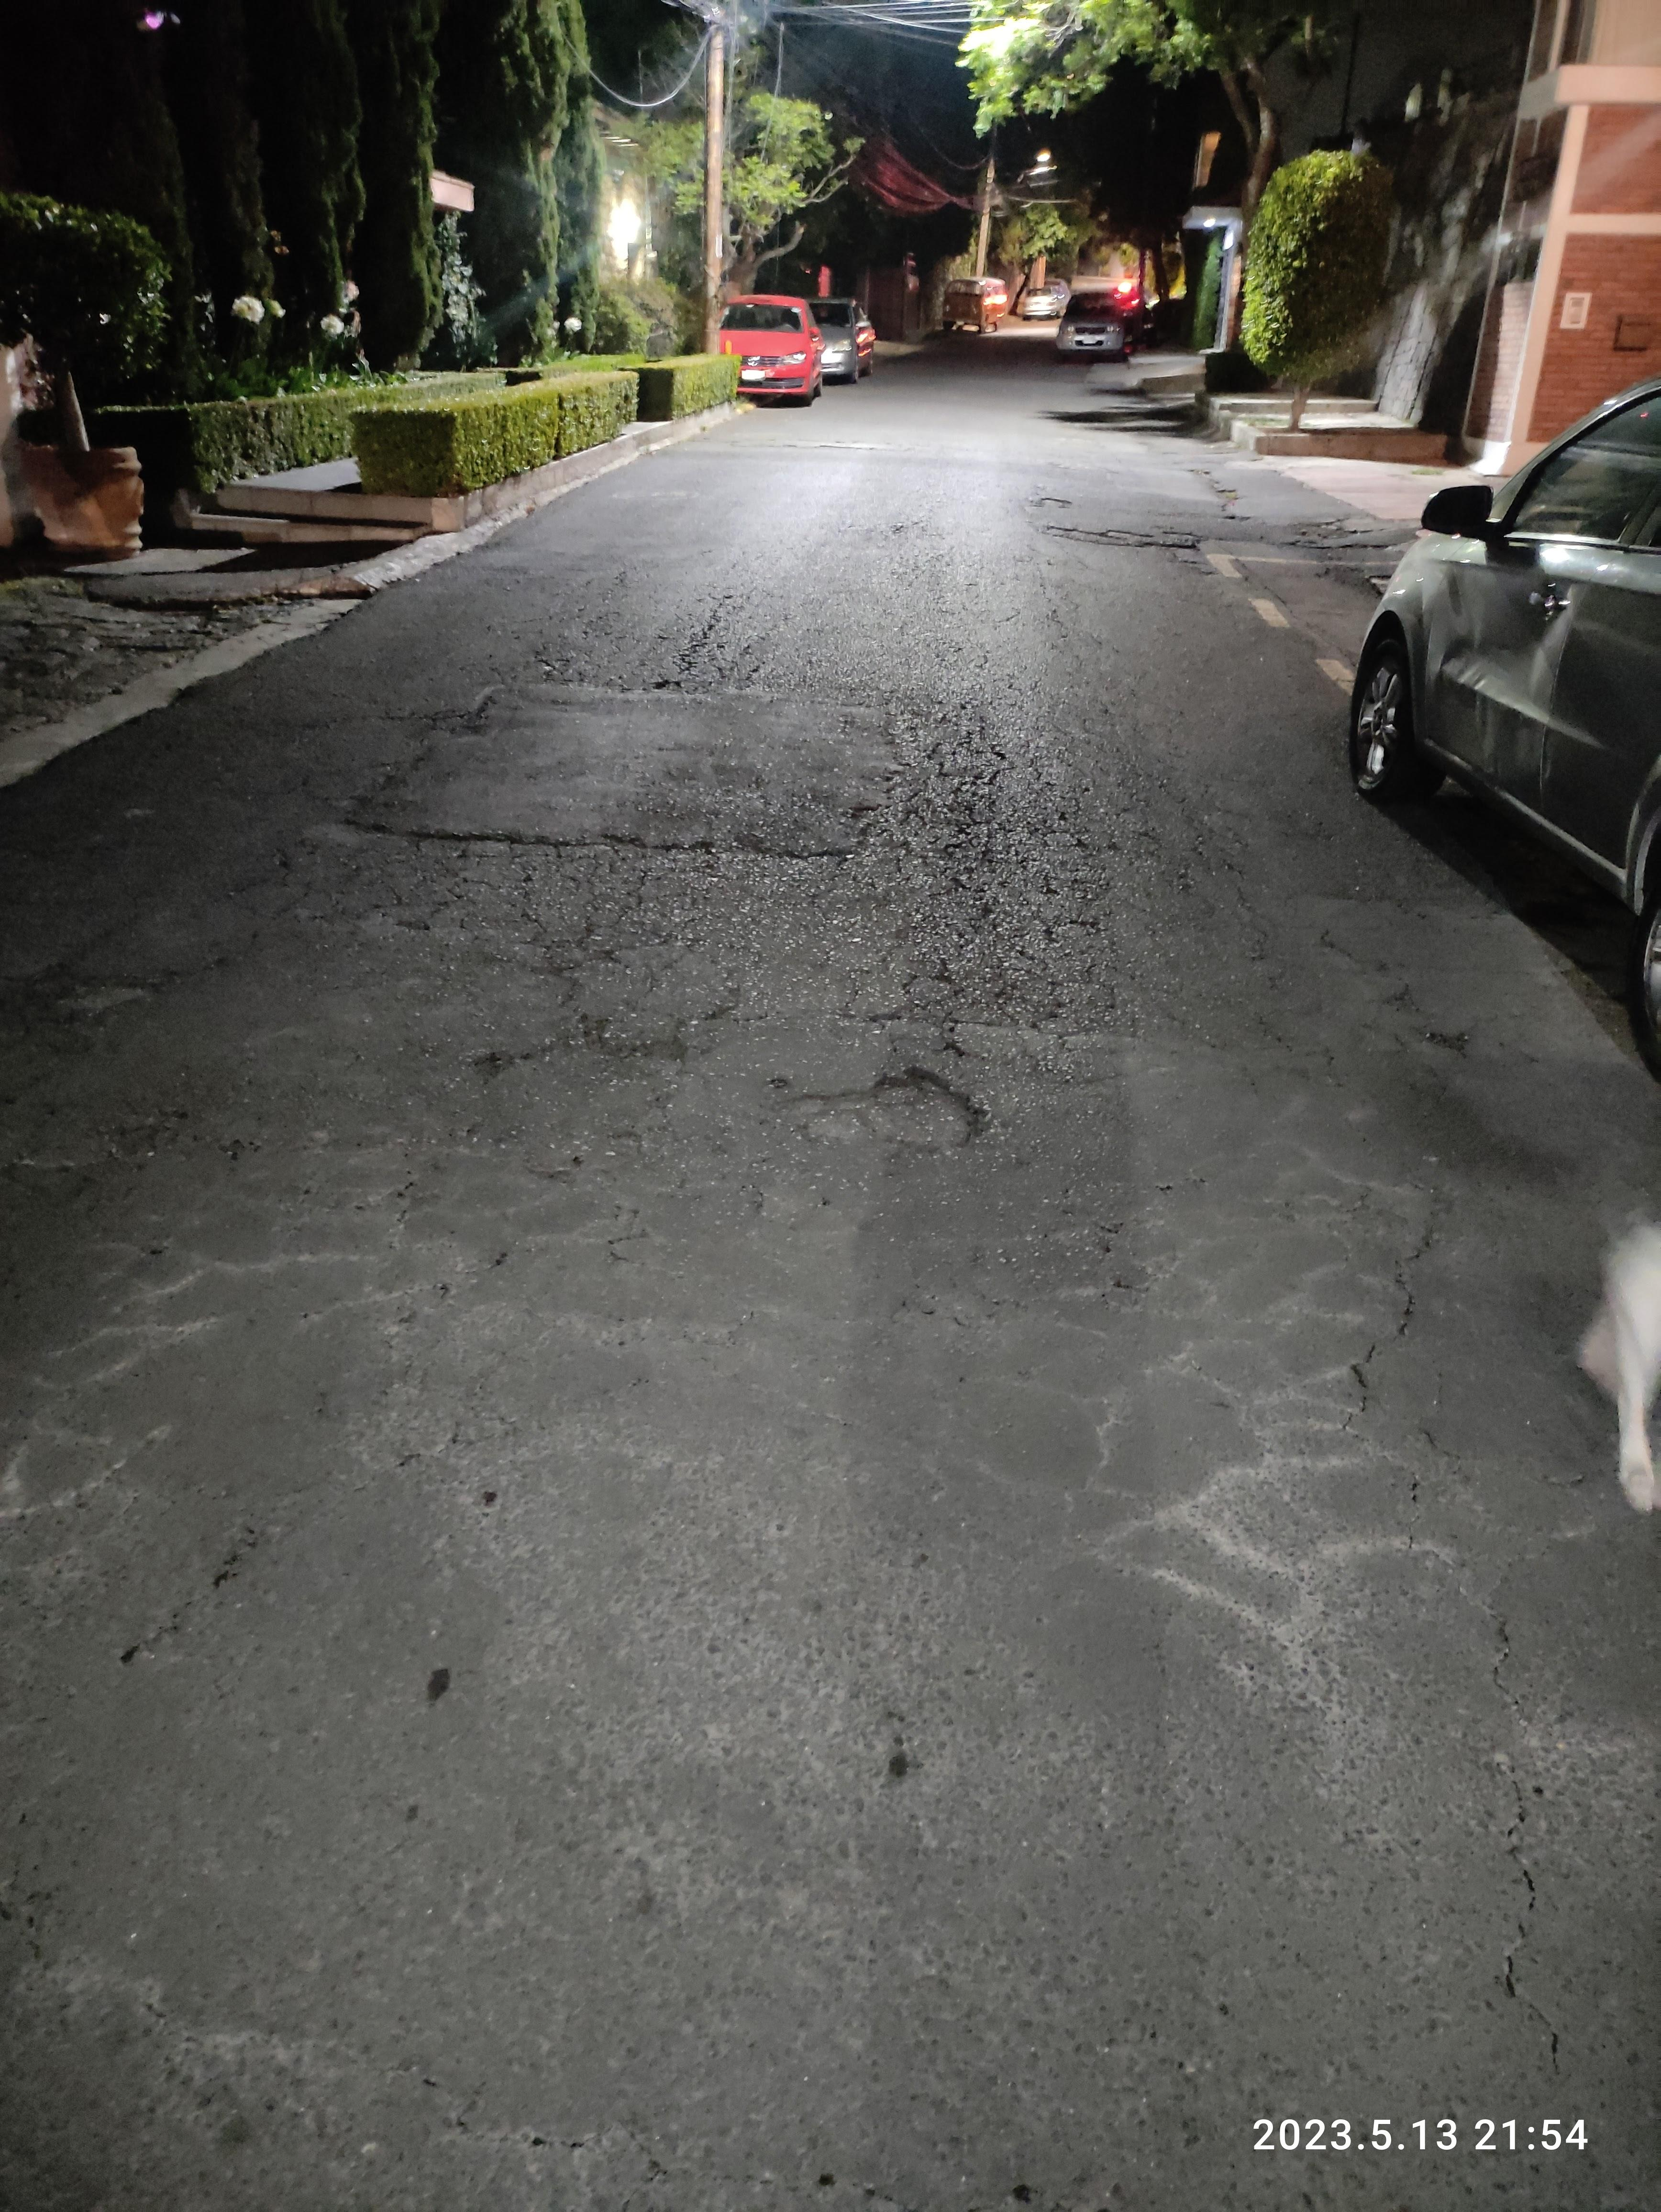alligator-crack: (311, 841, 769, 1080), (872, 663, 1136, 1012)
crack: (1316, 1146, 1481, 1483), (649, 555, 747, 712)
pothole: (794, 1008, 1024, 1216), (1010, 474, 1410, 572), (7, 925, 204, 1071)
